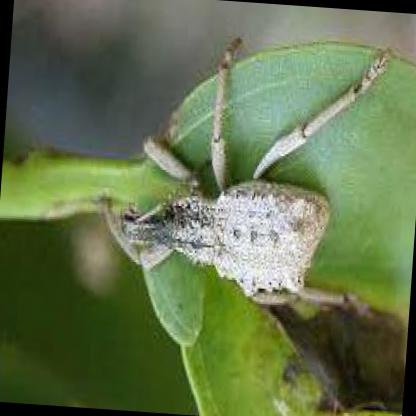ash weevil: (119, 41, 389, 304)
